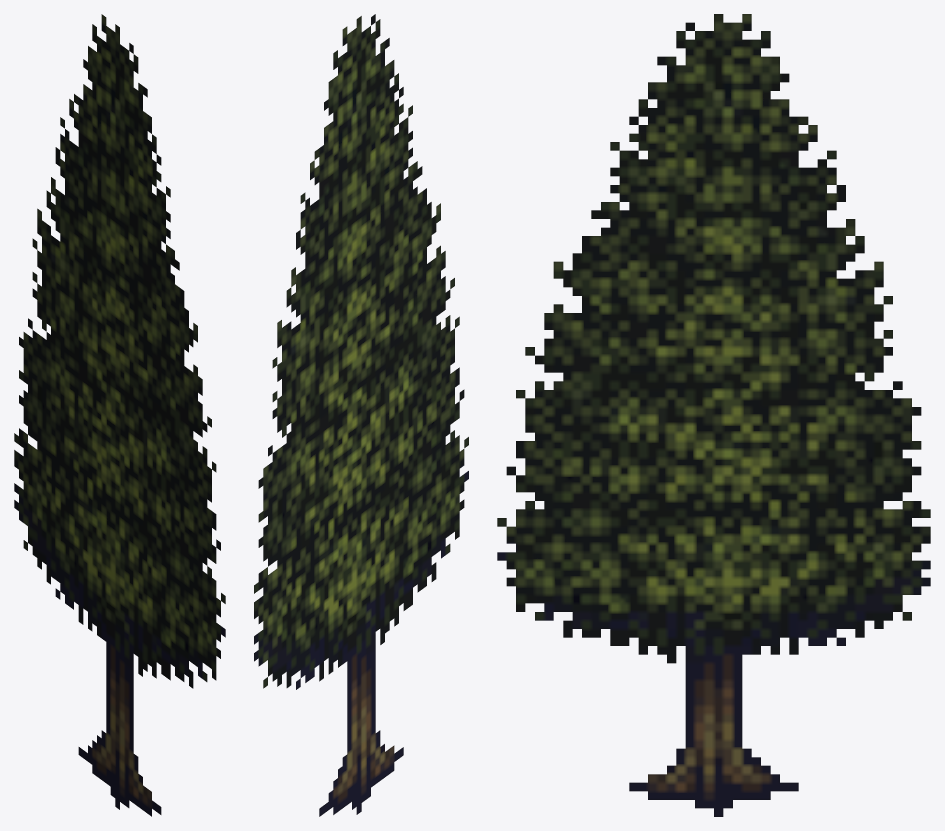
Rendered from ObjMD_Tree_A_04.FBX.
3 views of the same model, side by side, from view 1: azimuth 30°, elevation 25°; view 2: azimuth 150°, elevation 25°; view 3: azimuth 270°, elevation 25° (orthographic). The views are drawn at different scales.
Parts seen in each view (by area): view 1: ObjMD_Tree_A_04; view 2: ObjMD_Tree_A_04; view 3: ObjMD_Tree_A_04.
Boxes of the visible parts, x1,y1,x2,y2 form: ObjMD_Tree_A_04: [14, 14, 225, 816]; ObjMD_Tree_A_04: [254, 14, 468, 816]; ObjMD_Tree_A_04: [497, 14, 930, 816].
Bounding box in the file's own units: 0 × 588 × 288.
